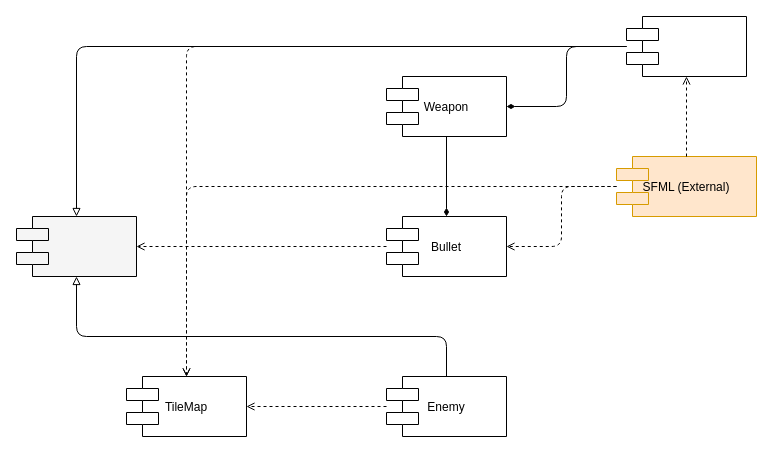
The diagram is 773 pixels wide and 453 high, and some of its shapes have lost their labels. Here are the shapes that lost their labels. From the top down, the centre of each, then its label:
At point 686,46: "Player".
At point 76,246: "Entity".
